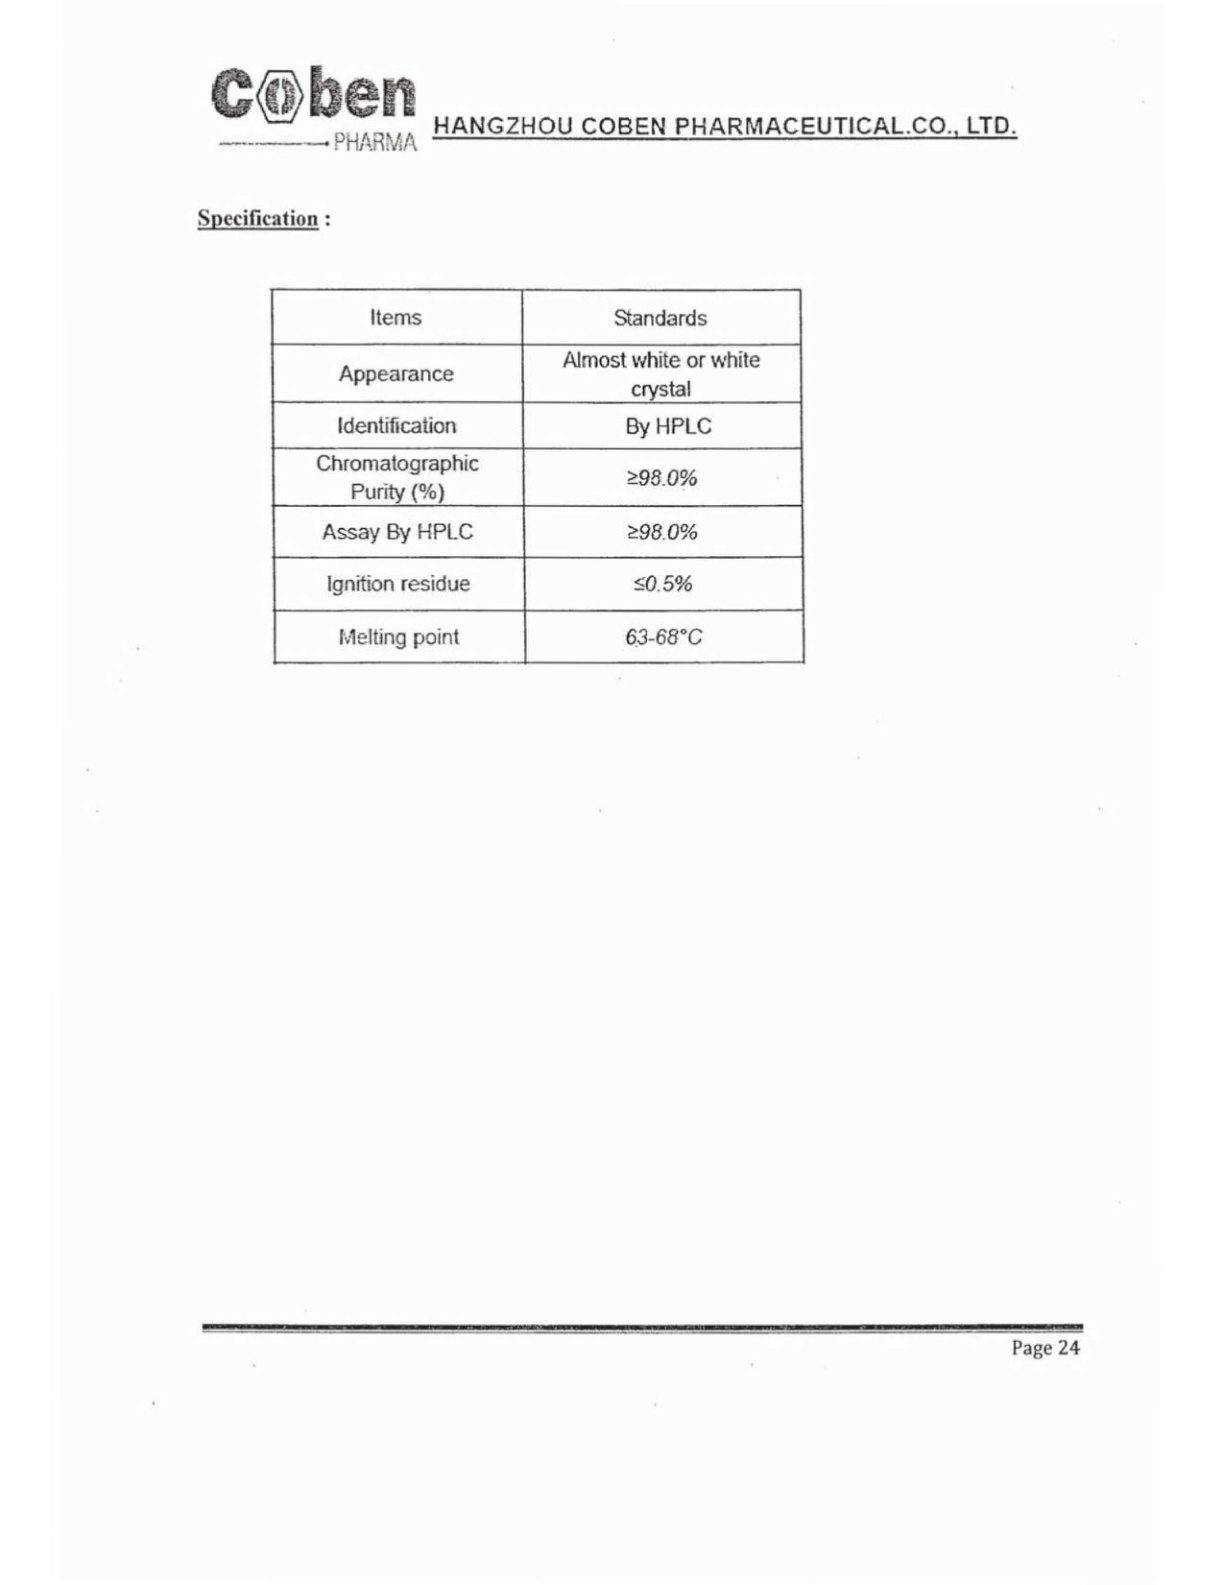full_lined: (269, 285, 806, 665)
